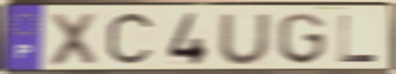4: (165, 11, 210, 68)
C: (103, 9, 158, 70)
G: (276, 11, 328, 66)
L: (337, 13, 379, 64)
U: (216, 12, 273, 67)
X: (47, 11, 100, 69)
